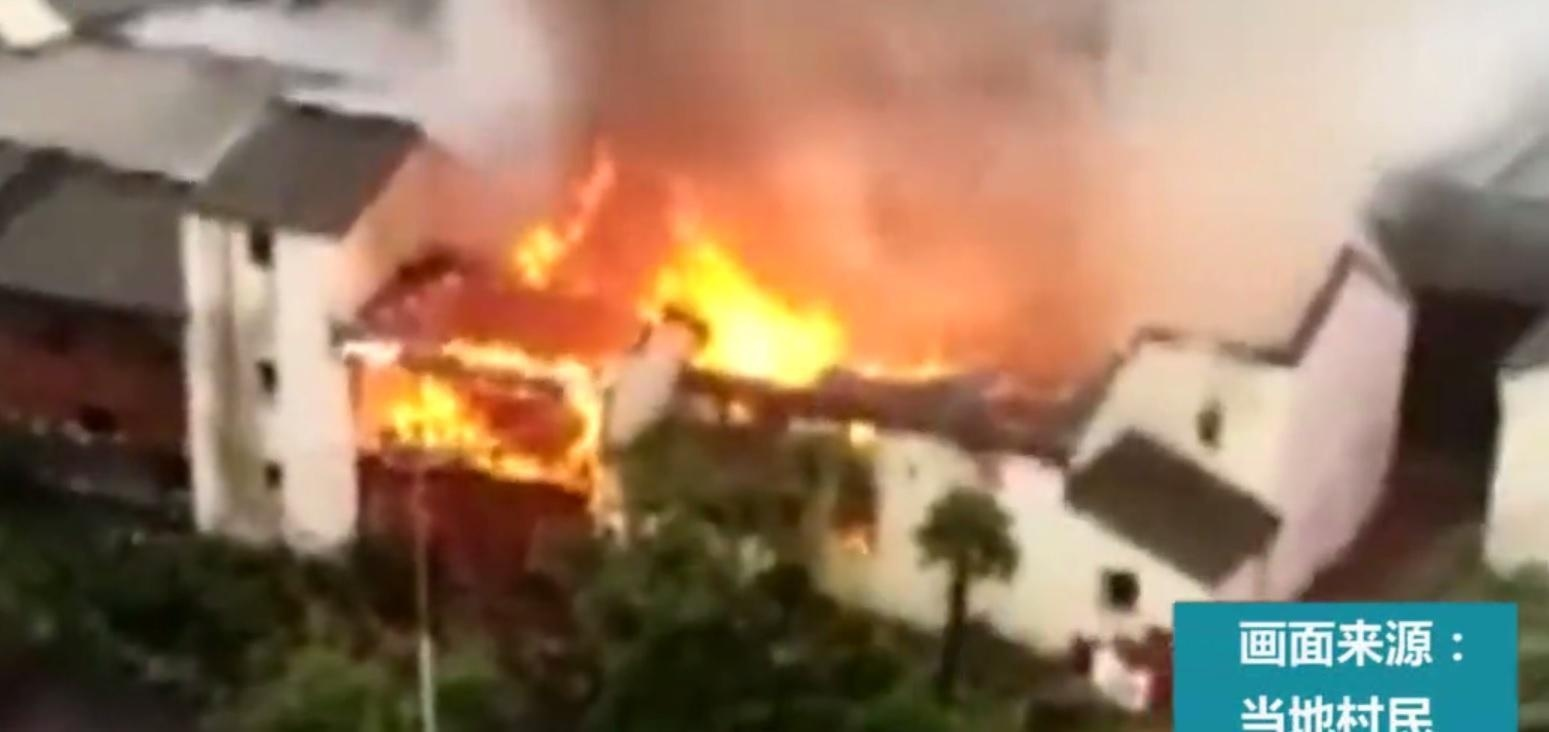fire: (371, 156, 883, 494)
